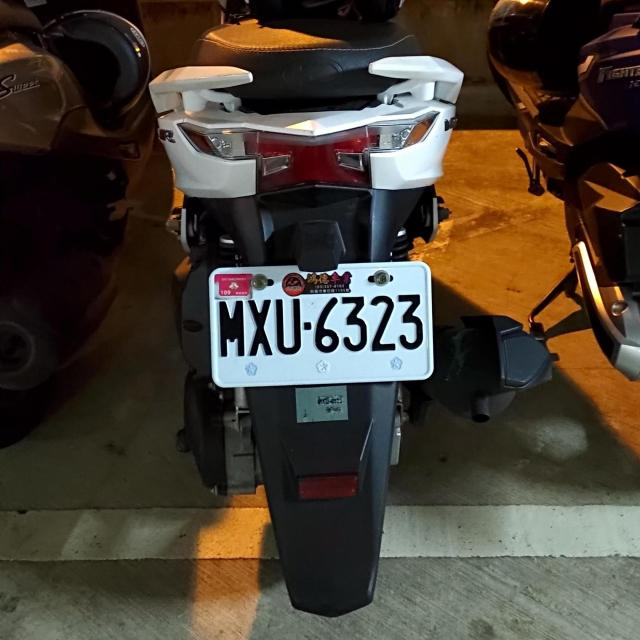W: (205, 258, 432, 388)
